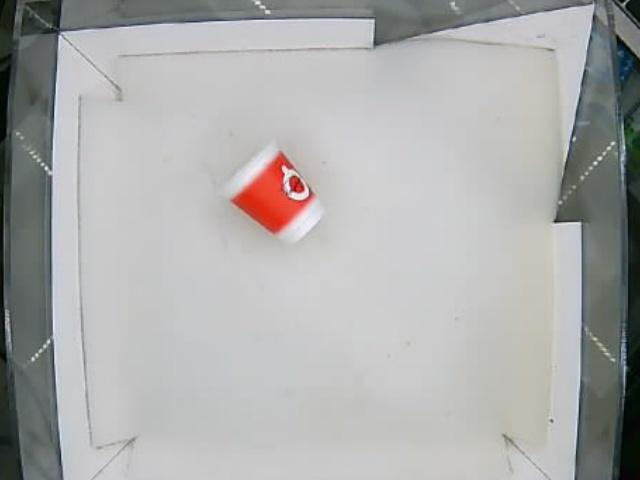Cup: (220, 142, 326, 245)
